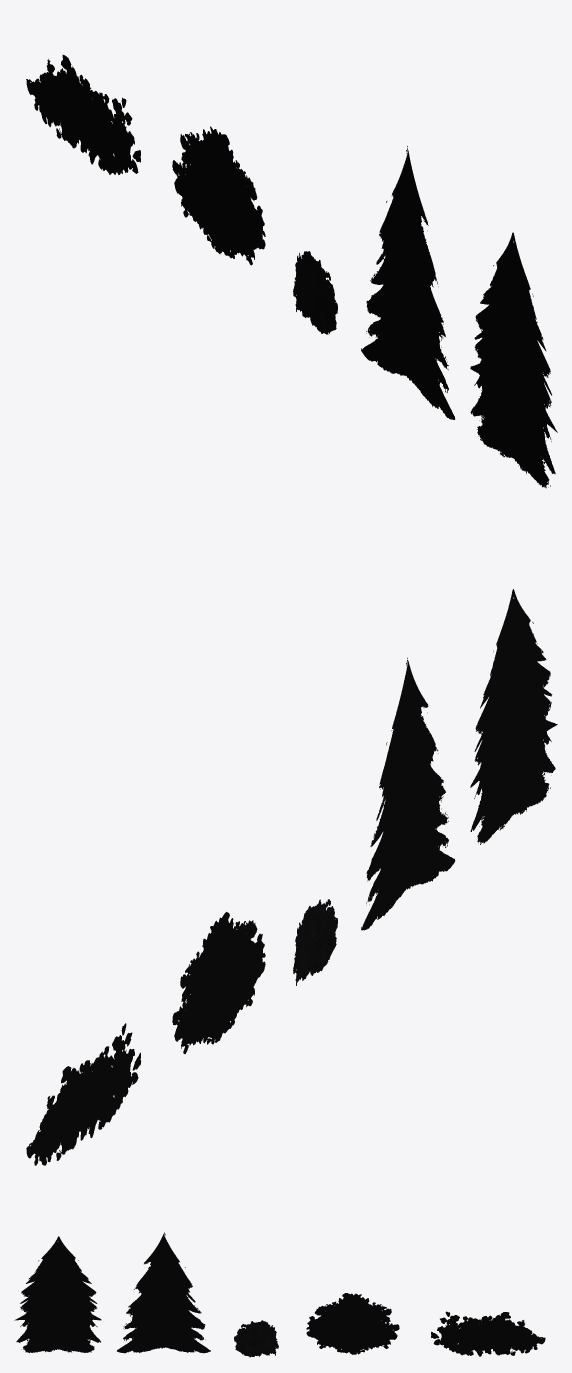
The model's file is trees.fbx.
The picture shows the model from 3 angles, top to bottom: view 1: azimuth 30°, elevation 25°; view 2: azimuth 150°, elevation 25°; view 3: azimuth 270°, elevation 25°; orthographic projection. The views are drawn at different scales.
Parts seen in each view (by area): view 1: tree.000, tree.001, tree.002, tree.003, tree.004; view 2: tree.000, tree.001, tree.002, tree.003, tree.004; view 3: tree.000, tree.001, tree.002, tree.003, tree.004.
Part boxes in pixels (<box>): tree.000: <box>470,232,557,488</box>; tree.001: <box>361,146,455,419</box>; tree.002: <box>172,126,265,265</box>; tree.003: <box>26,54,140,174</box>; tree.004: <box>293,251,337,334</box>; tree.000: <box>470,589,557,844</box>; tree.001: <box>361,657,455,930</box>; tree.002: <box>172,912,265,1053</box>; tree.003: <box>26,1023,141,1165</box>; tree.004: <box>293,899,337,985</box>; tree.000: <box>14,1236,101,1352</box>; tree.001: <box>117,1232,210,1353</box>; tree.002: <box>306,1293,399,1354</box>; tree.003: <box>431,1311,545,1356</box>; tree.004: <box>234,1320,278,1357</box>.
Size of the model in its own units: 0.000898 by 9.92 by 37.24.
